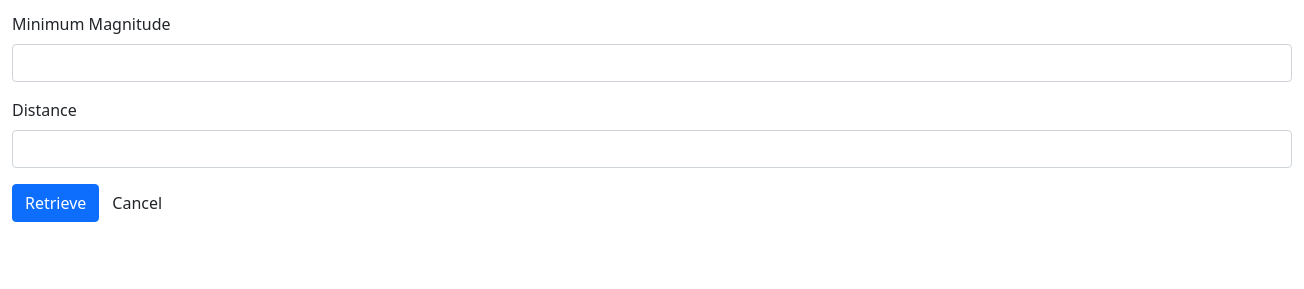
EarthquakesForm tests › Correct Error messages on missing input
Click the button with test id "EarthquakesForm-submit".
click(56, 203)  # box [12,184,99,222]
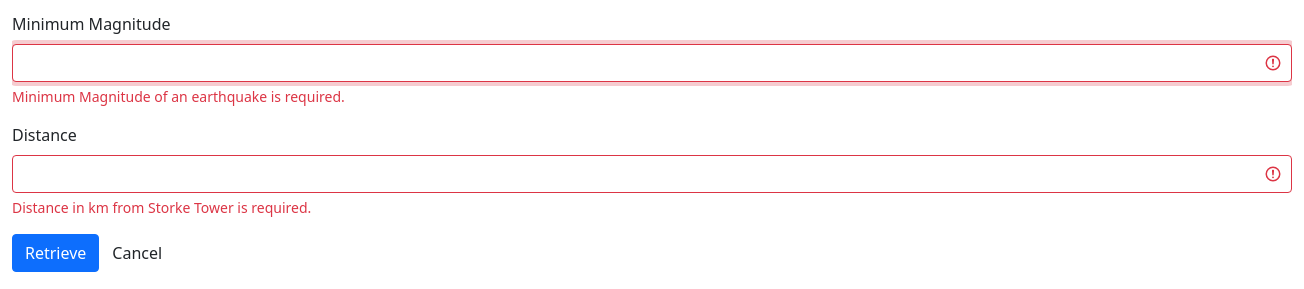
Check: the text "Minimum Magnitude of an earthquake is required." is shown, box [12,87,345,106]
Check: the text "Distance in km from Storke Tower is required." is shown, box [12,198,311,217]
